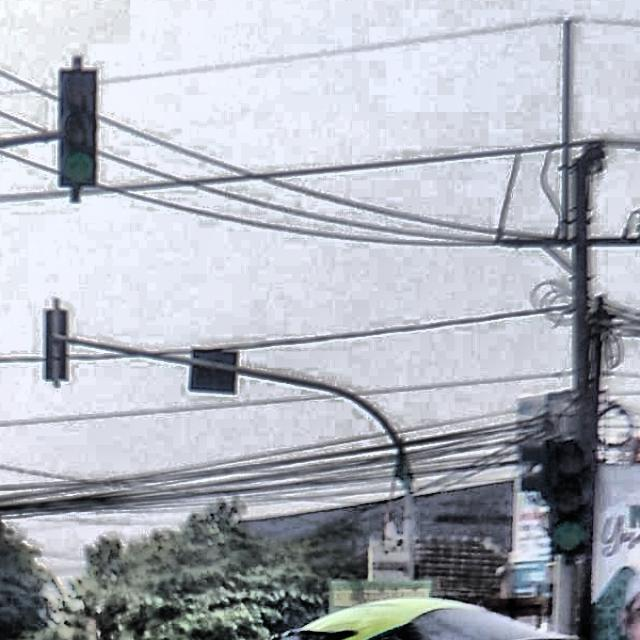green: (547, 440, 591, 562), (57, 67, 96, 185)
